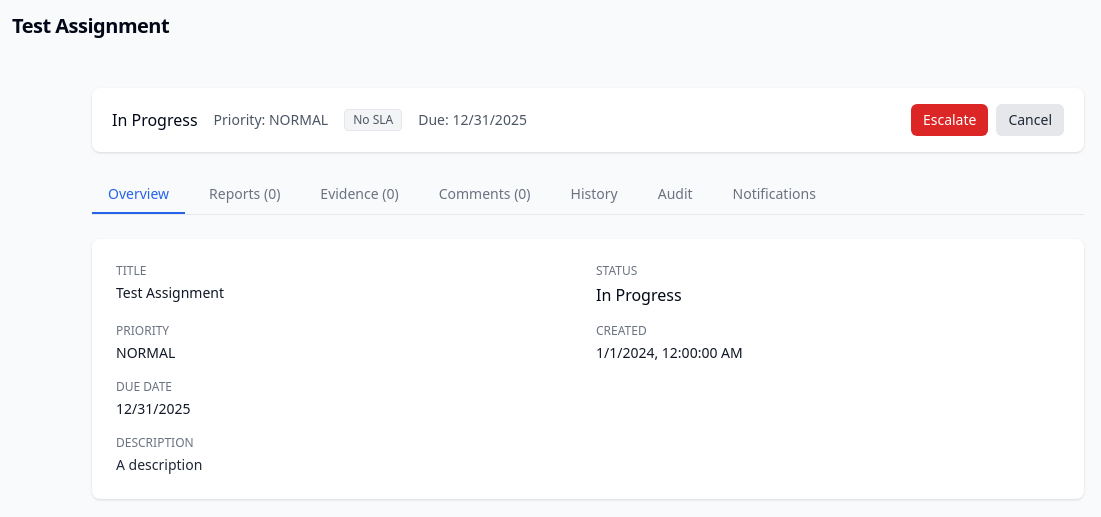
Scenario: AssignmentDetailPage › switches to history tab
Click the tab with test id "tab-history" at (594, 195), box [555,176,634,214]
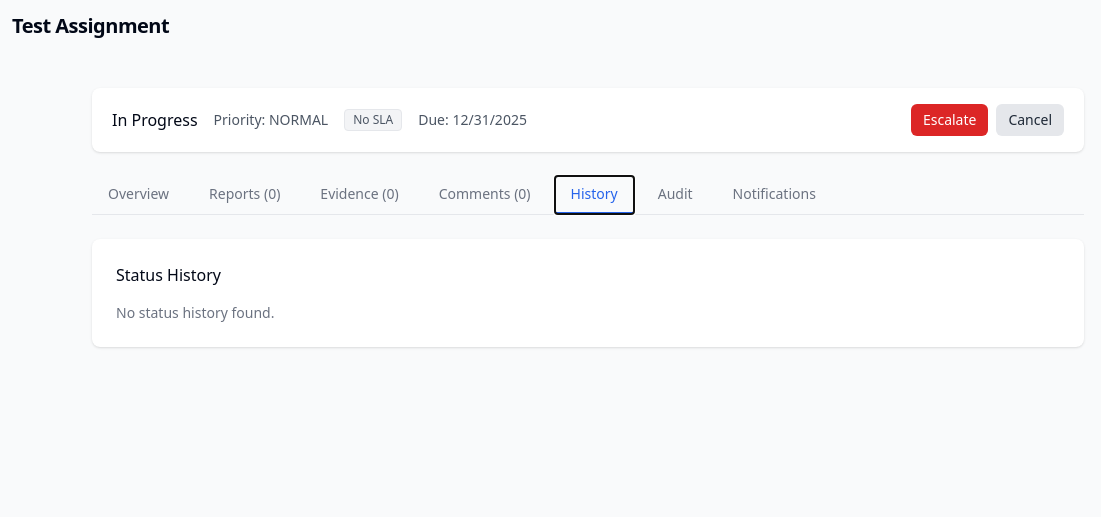
Expected: the panel with test id "panel-history" is shown, [92,239,1084,347]
